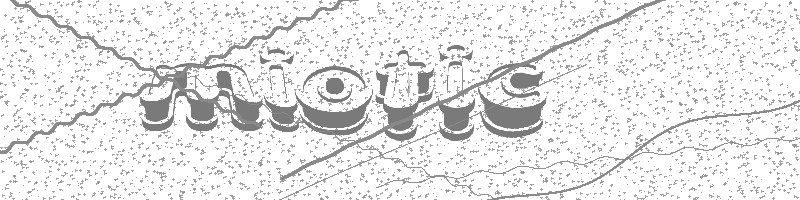c: (476, 59, 550, 140)
i: (435, 38, 478, 144), (263, 41, 300, 132)
m: (138, 59, 264, 130)
o: (295, 64, 372, 136)
t: (374, 48, 436, 144)
